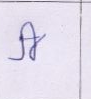i_matra: (23, 22, 40, 60)
